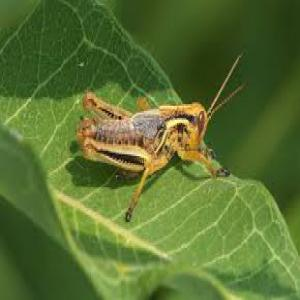locust: (73, 58, 241, 202)
